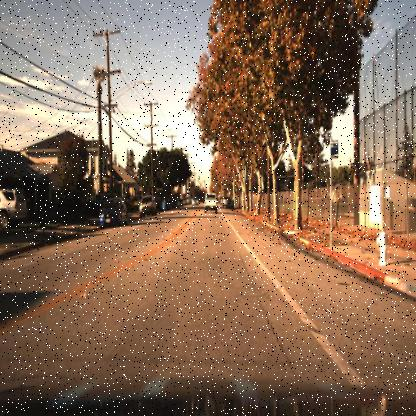car: (0, 184, 29, 235), (97, 197, 128, 230), (137, 191, 158, 218), (138, 193, 160, 217), (202, 189, 218, 214), (191, 191, 201, 209)
